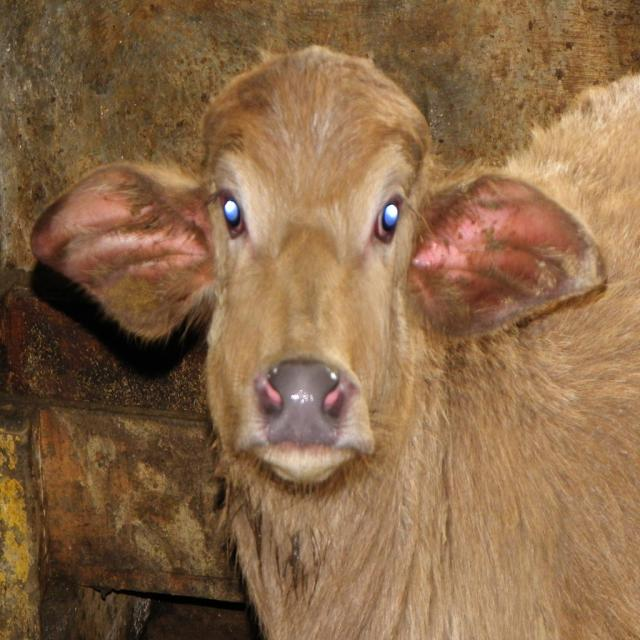Cattle: (23, 0, 607, 640)
